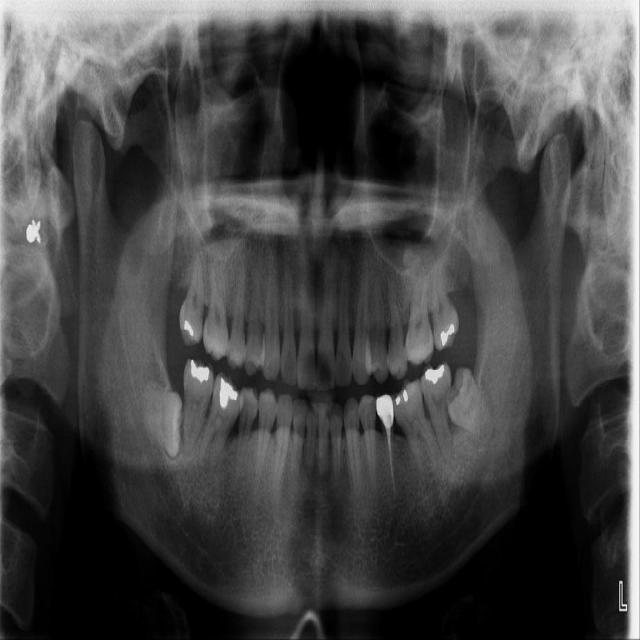Crown: (376, 394, 395, 428)
Filling: (220, 378, 237, 409), (191, 360, 210, 384), (424, 364, 444, 384), (440, 324, 455, 346), (184, 321, 193, 336), (403, 389, 409, 402), (395, 395, 400, 405)
Root Canal Treatment: (387, 428, 395, 487)
impacted tooth: (446, 368, 499, 439), (139, 386, 184, 460)
